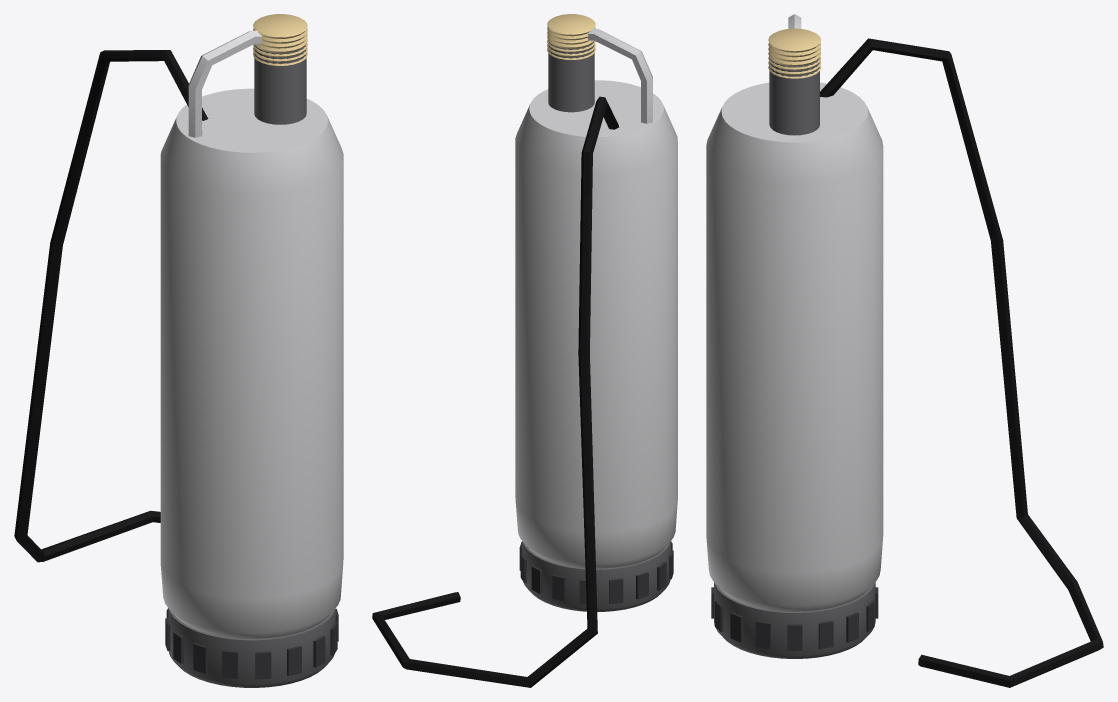
Rendered from HID-BOM-002_lod1.glb.
The picture shows the model from 3 angles, left to right: view 1: azimuth 30°, elevation 25°; view 2: azimuth 150°, elevation 25°; view 3: azimuth 270°, elevation 25°; orthographic projection. The views are drawn at different scales.
Visible parts, largest first — view 1: HID-BOM-002_corpo, HID-BOM-002_cabo, HID-BOM-002_base, HID-BOM-002_recalque, HID-BOM-002_rosca, HID-BOM-002_alca; view 2: HID-BOM-002_corpo, HID-BOM-002_cabo, HID-BOM-002_base, HID-BOM-002_recalque, HID-BOM-002_rosca, HID-BOM-002_alca; view 3: HID-BOM-002_corpo, HID-BOM-002_cabo, HID-BOM-002_base, HID-BOM-002_recalque, HID-BOM-002_rosca.
Boxes of the visible parts, x1,y1,x2,y2 form: HID-BOM-002_corpo: (160, 88, 343, 638); HID-BOM-002_cabo: (14, 50, 208, 562); HID-BOM-002_base: (168, 608, 335, 687); HID-BOM-002_recalque: (254, 43, 306, 124); HID-BOM-002_rosca: (253, 14, 307, 65); HID-BOM-002_alca: (188, 30, 262, 137); HID-BOM-002_corpo: (515, 80, 677, 568); HID-BOM-002_cabo: (372, 96, 618, 687); HID-BOM-002_base: (522, 541, 670, 611); HID-BOM-002_recalque: (548, 41, 594, 112); HID-BOM-002_rosca: (547, 14, 595, 59); HID-BOM-002_alca: (587, 28, 652, 123); HID-BOM-002_corpo: (706, 82, 883, 611); HID-BOM-002_cabo: (820, 38, 1103, 687); HID-BOM-002_base: (714, 582, 875, 658); HID-BOM-002_recalque: (769, 58, 819, 135); HID-BOM-002_rosca: (768, 28, 821, 78).
Size of the model in its own units: 0.229 by 0.526 by 0.3144.
Materials: 5 (1 with a texture image).
